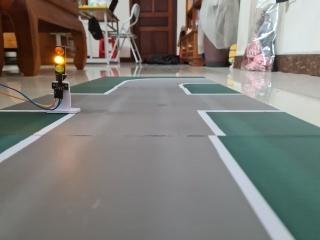yellow: (47, 38, 78, 83)
